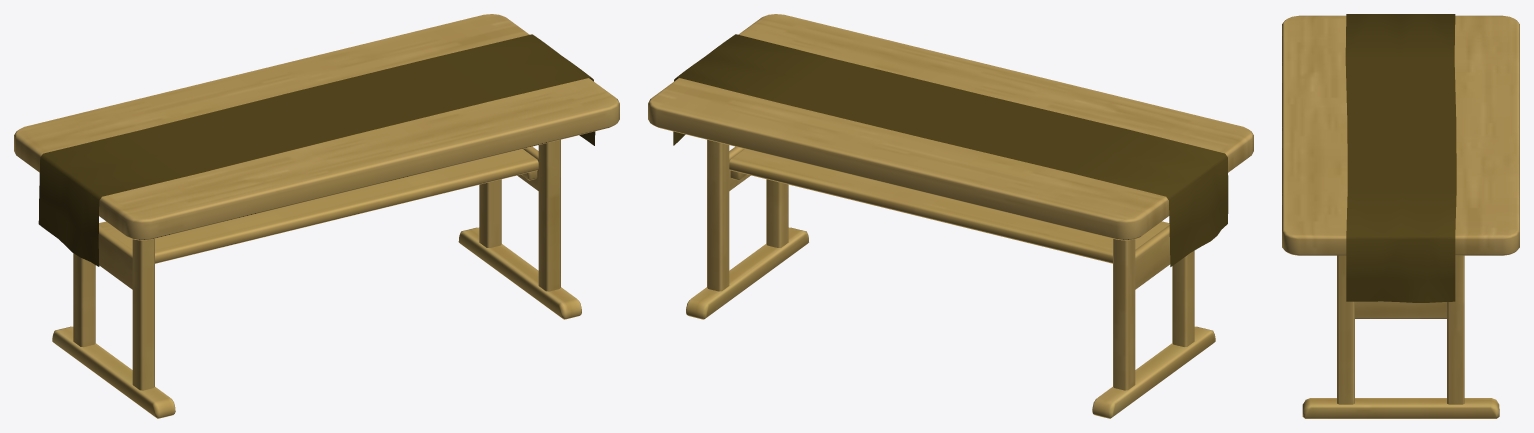
3 renders of one model, left to right at view 1: azimuth 30°, elevation 25°; view 2: azimuth 150°, elevation 25°; view 3: azimuth 270°, elevation 25°, orthographic. The views are drawn at different scales.
Bounding box in the file's own units: 19.78 × 8.05 × 8.73.
Materials: 2 (2 with a texture image).
